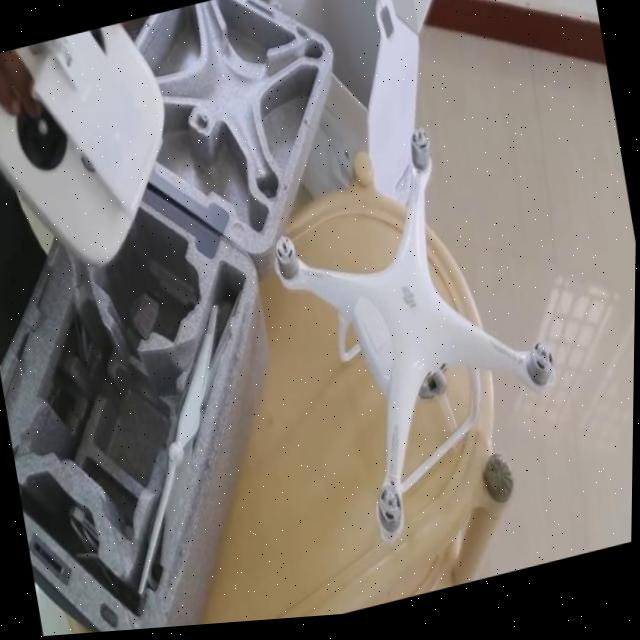drones: (245, 88, 588, 578)
